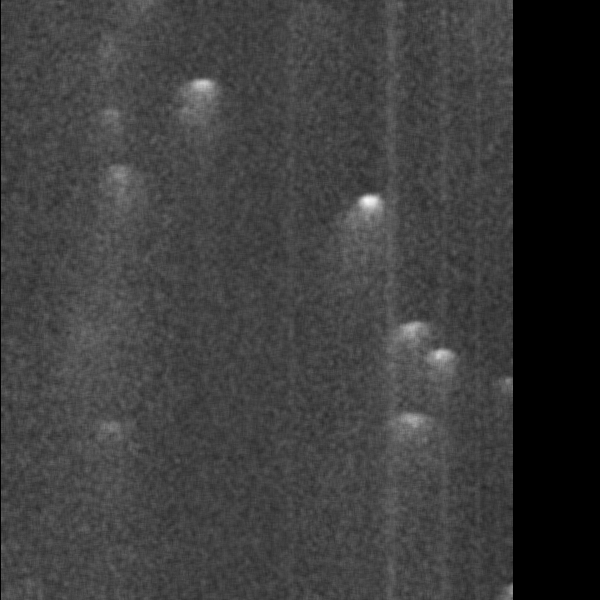spark: (185, 199, 275, 292)
